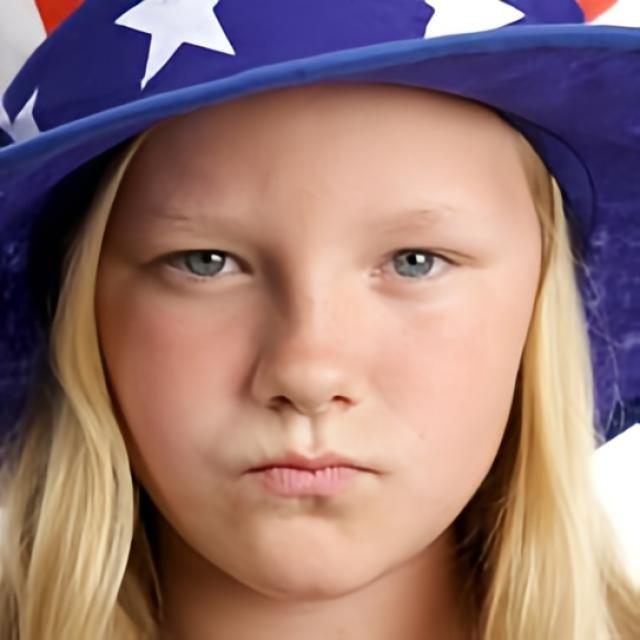anger: (98, 63, 533, 592)
